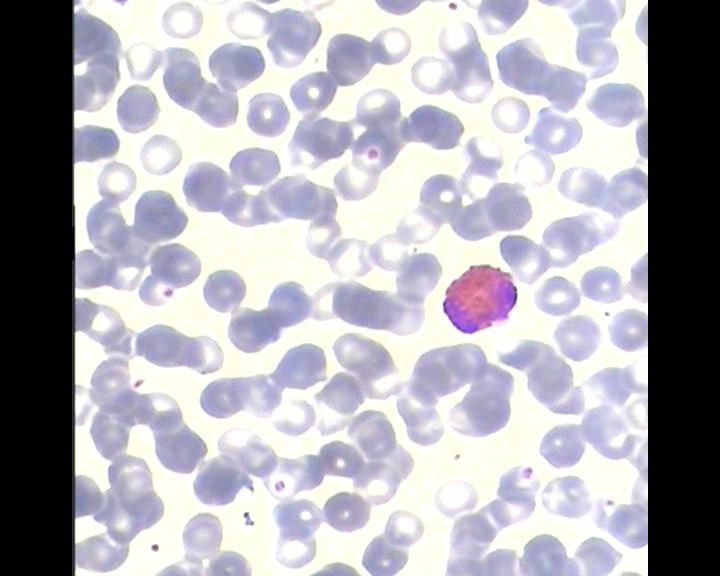eosi: (437, 260, 518, 340)
